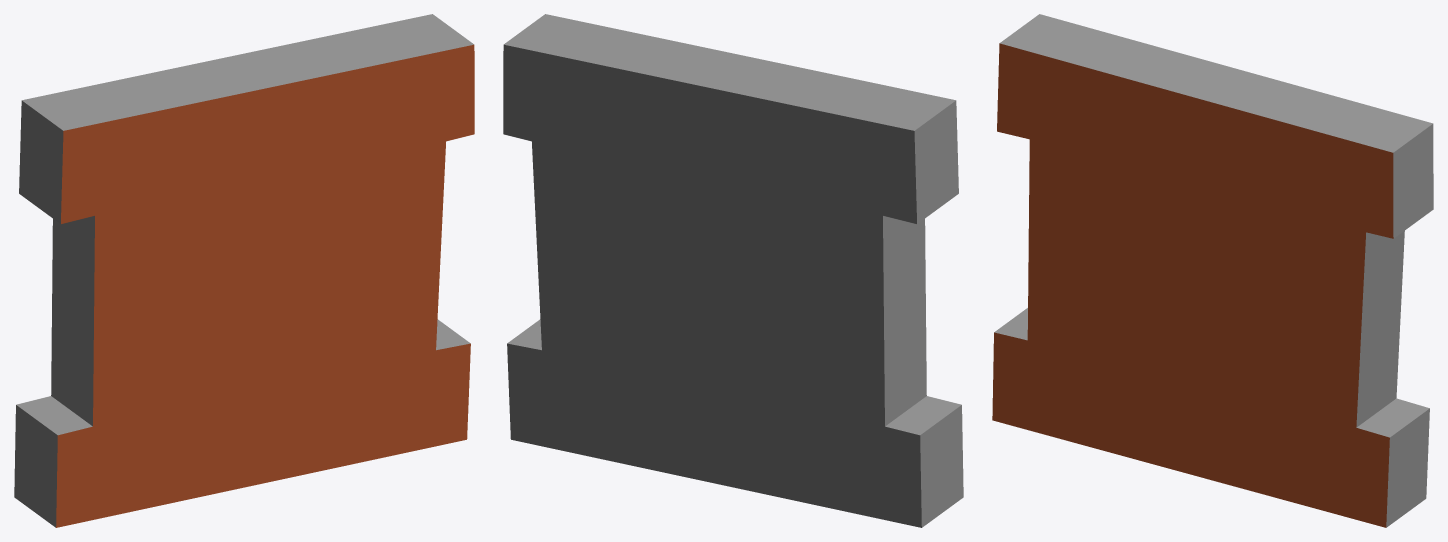
File: construction_5087_assumed_A_Casa_h6m.obj
3 renders of one model, left to right at view 1: azimuth 30°, elevation 25°; view 2: azimuth 150°, elevation 25°; view 3: azimuth 330°, elevation 25°, orthographic. The views are drawn at different scales.
Visible parts, largest first — view 1: construction_5087_assumed_A_Casa; view 2: construction_5087_assumed_A_Casa; view 3: construction_5087_assumed_A_Casa.
Boxes of the visible parts, x1,y1,x2,y2 form: construction_5087_assumed_A_Casa: (14,14,474,527); construction_5087_assumed_A_Casa: (503,14,963,527); construction_5087_assumed_A_Casa: (992,14,1433,527).
Size of the model in its own units: 34.67 by 32.24 by 6.
